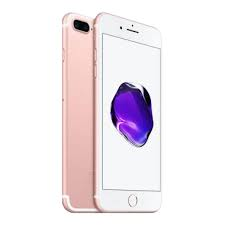iphone: (90, 12, 164, 215)
iphone7: (89, 10, 163, 213)
